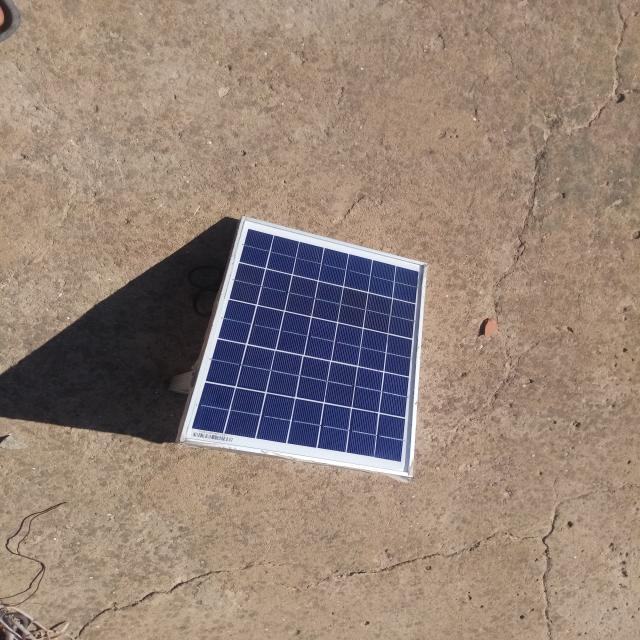no faulty: (181, 217, 427, 474)
